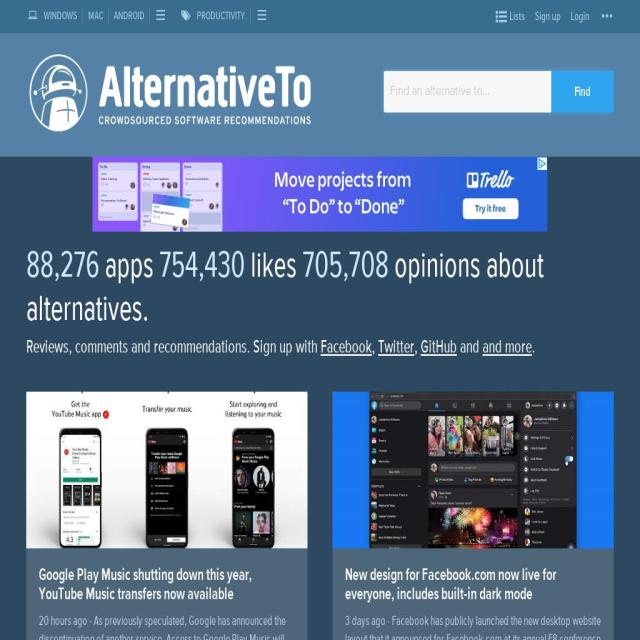button: (26, 392, 308, 548), (332, 392, 614, 548), (29, 54, 312, 133), (550, 71, 614, 112), (488, 1, 530, 32), (529, 0, 565, 33), (564, 0, 594, 33), (191, 8, 250, 24), (38, 8, 83, 24), (108, 8, 150, 24), (82, 8, 108, 24)
field: (383, 71, 612, 112)
heading: (39, 565, 252, 603), (345, 565, 556, 603)
iframe: (26, 156, 614, 232)
image: (26, 392, 308, 548), (332, 392, 614, 548), (29, 54, 312, 133)
link: (321, 338, 372, 358), (482, 338, 532, 358), (378, 338, 414, 358), (421, 338, 457, 358)
text: (26, 250, 544, 328), (345, 615, 601, 640), (39, 615, 286, 640), (26, 338, 321, 358), (159, 247, 245, 285), (302, 247, 388, 285), (26, 247, 100, 285), (100, 249, 160, 285), (245, 249, 303, 285), (594, 0, 620, 31), (38, 615, 88, 629), (345, 615, 386, 629), (457, 338, 482, 358), (509, 10, 525, 22), (372, 338, 378, 358), (414, 338, 420, 358), (532, 338, 535, 358)
